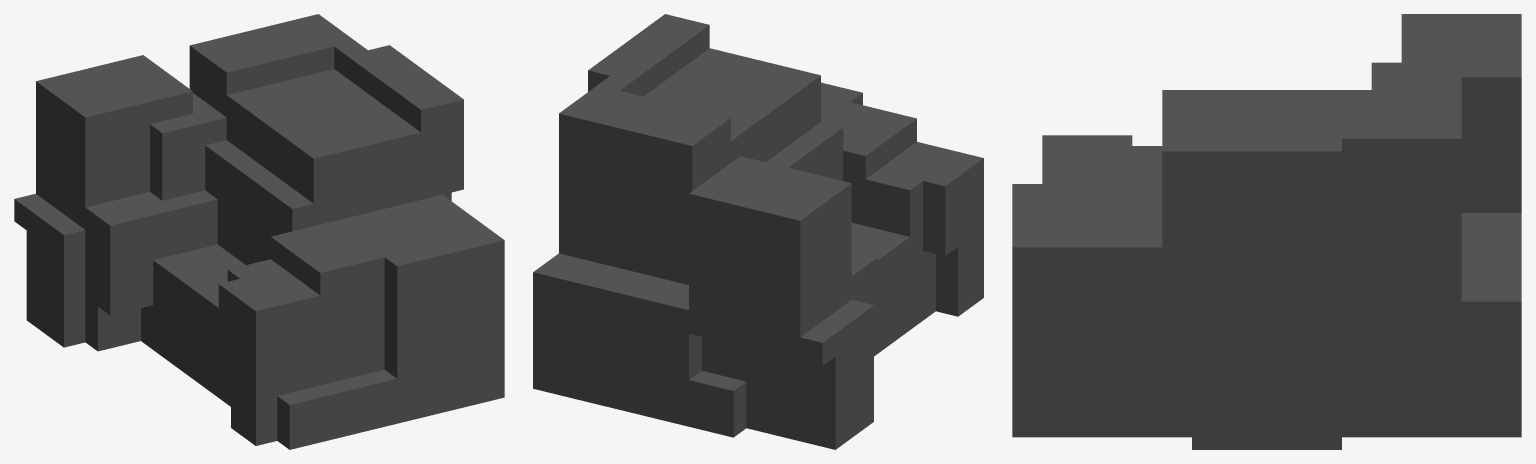
Rendered from rock_02.obj.
3 views of the same model, side by side, from view 1: azimuth 30°, elevation 25°; view 2: azimuth 150°, elevation 25°; view 3: azimuth 270°, elevation 25° (orthographic). The views are drawn at different scales.
Size of the model in its own units: 1.4 by 1.1 by 1.7.
1 material, 1 textured.
